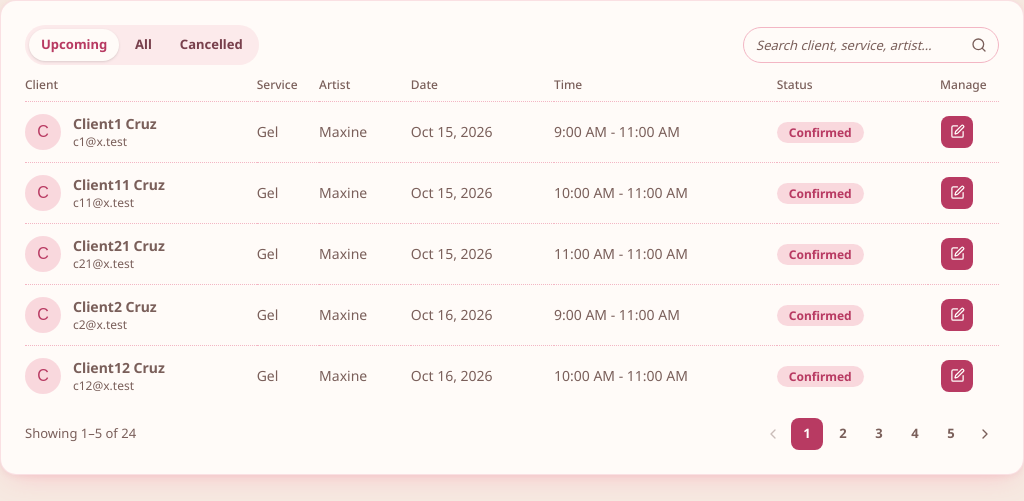
Test case: BookingsTable › switches to all bookings (newest first) and to cancelled ones (cancelled and refunded)
This screenshot has width=1024, height=501.
Step 1. Click the tab "All" → (144, 45), box [123,29,164,60]
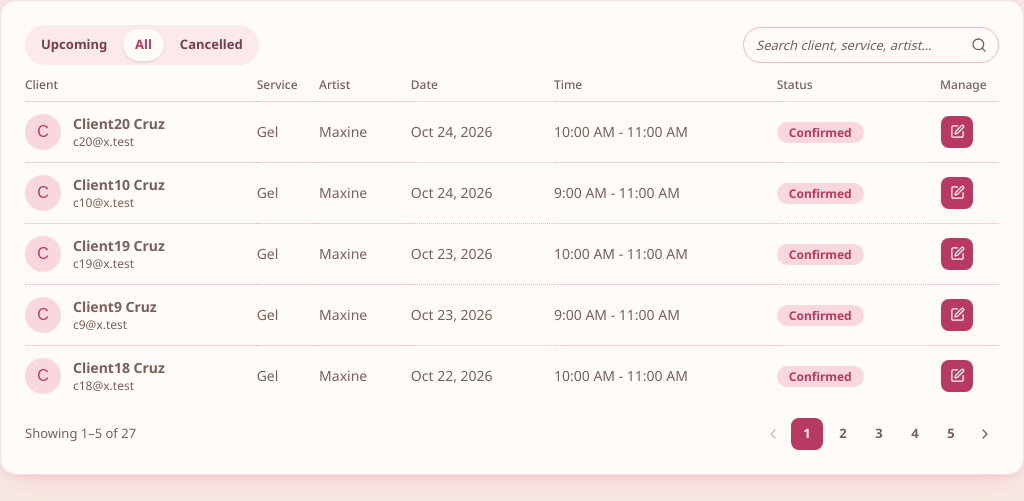
Expected: the text "Showing 1–5 of 27" is shown, [25,424,136,443]
Expected: the row that starts with "Client20 Cruz" shows "Oct 24, 2026", [411,122,493,140]
Step 2. Click the tab "Cancelled" → (211, 45), box [168,29,255,60]
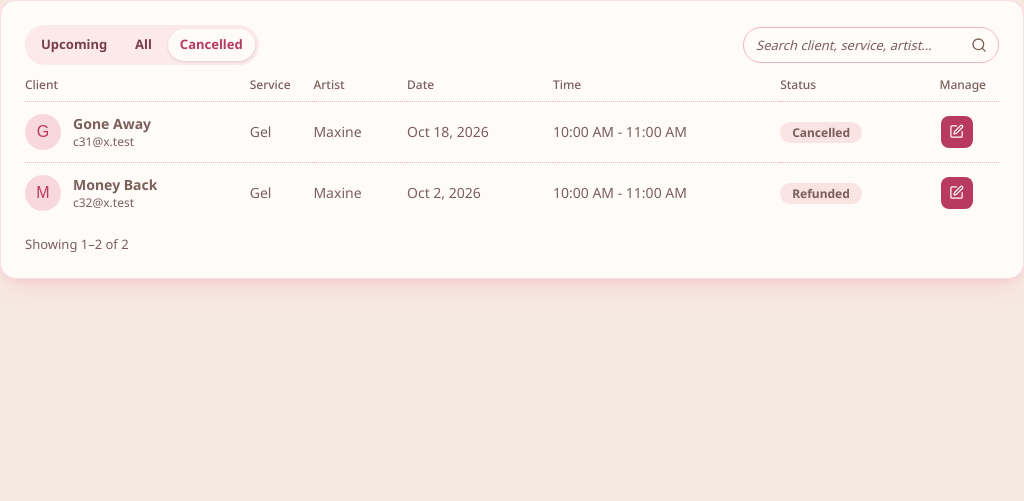
Expected: the row that starts with "Gone Away" is shown, [73,114,151,132]
Expected: the row that starts with "Money Back" shows "Refunded", [792,184,850,202]
